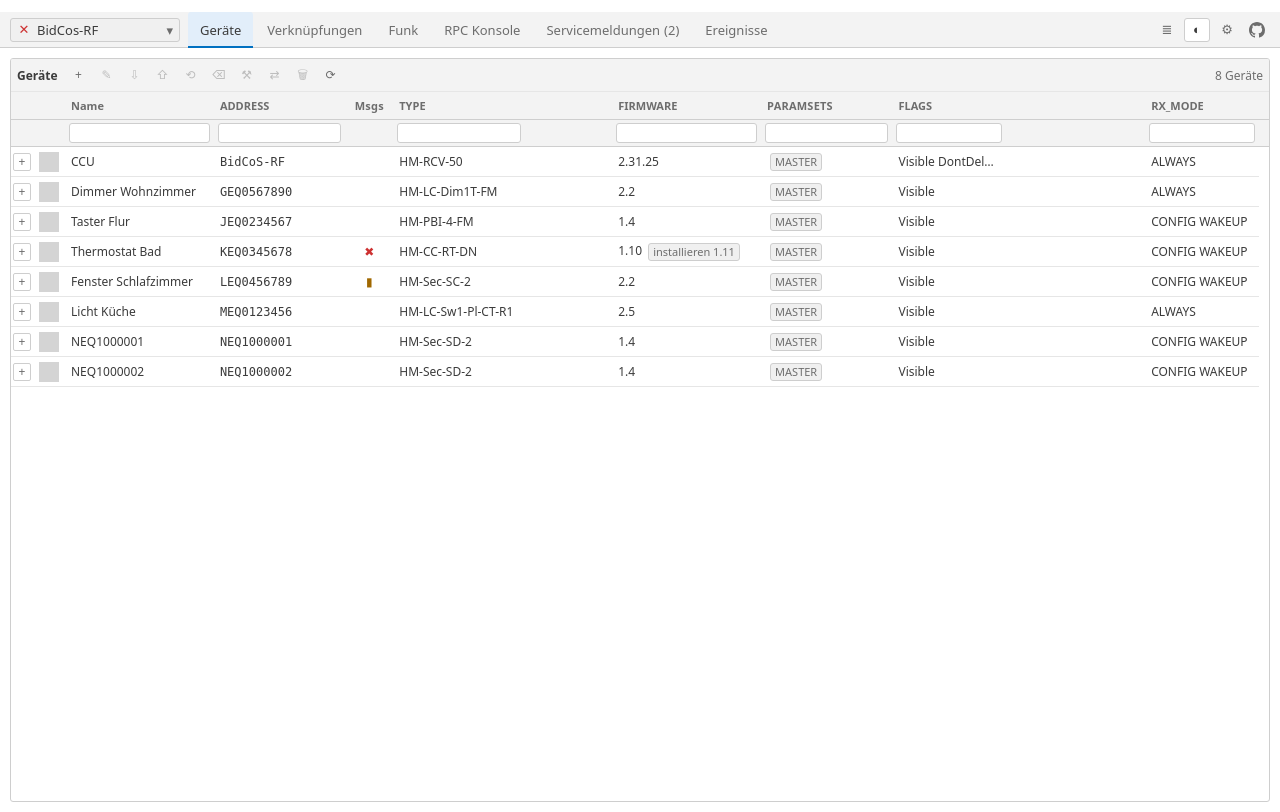
it: the devices toolbar › enables the device actions for a device, but not reportValueUsage
Click the row that starts with "Licht Küche". click: click(635, 312)
box: [11,297,1259,327]
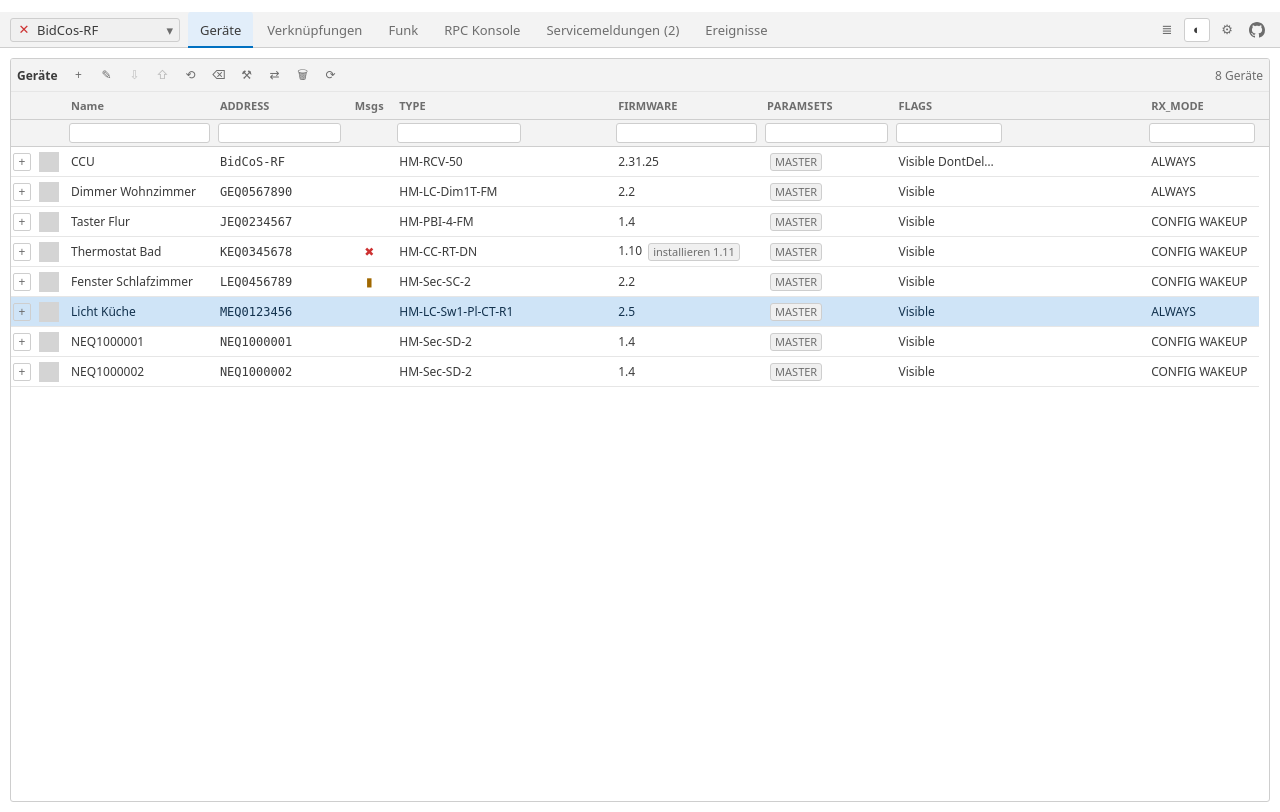
Result: the button with test id "devices-rename" is enabled at [94,62,120,88]
Result: the button with test id "devices-delete" is enabled at [290,62,316,88]
Result: the button with test id "devices-restore" is enabled at [178,62,204,88]
